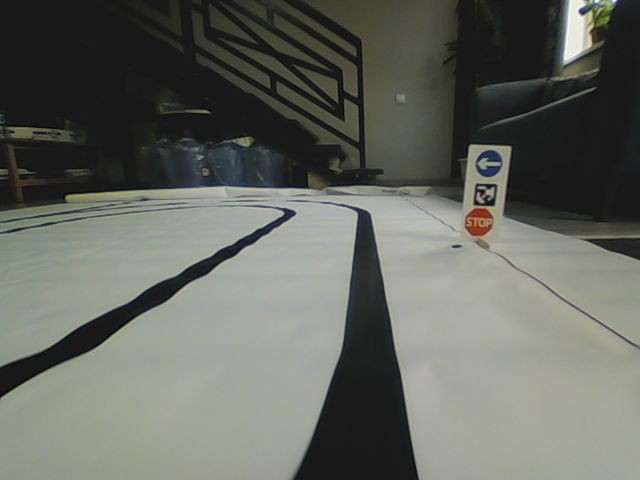Stop: (463, 206, 495, 236)
